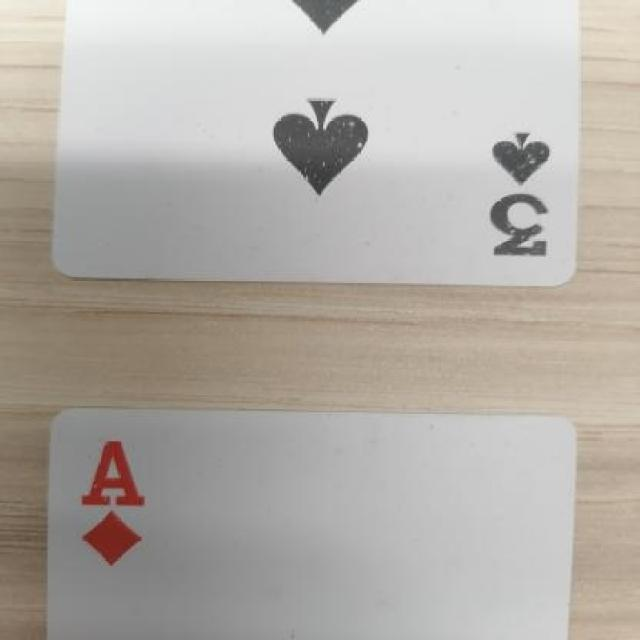3S: (462, 131, 566, 275)
AD: (68, 413, 165, 576)
